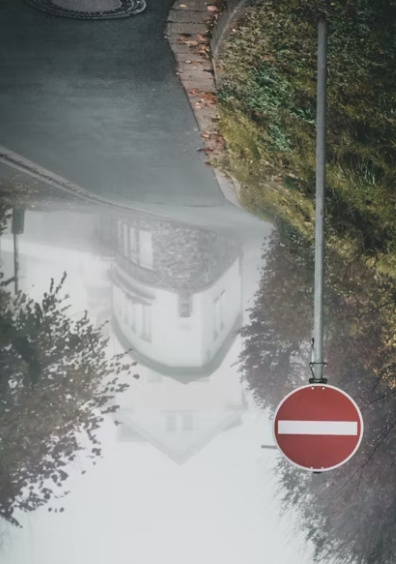No entry: (271, 376, 363, 480)
